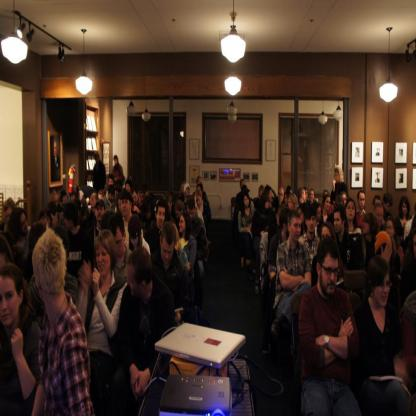board: (155, 323, 245, 368)
